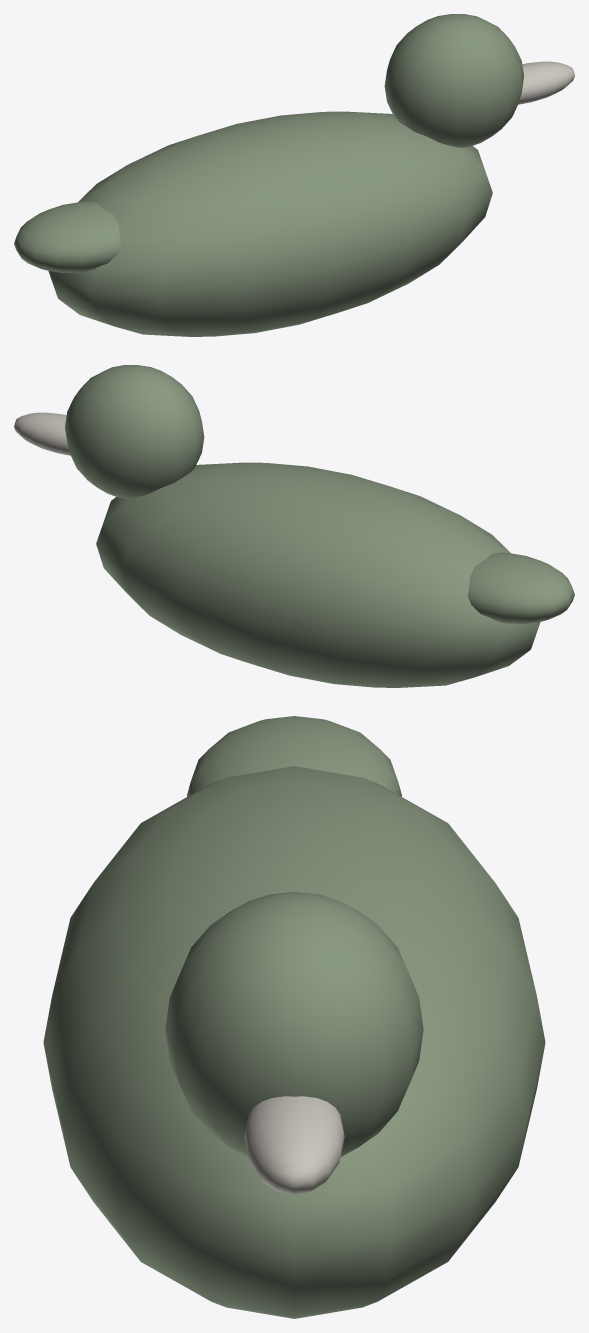
The model's file is duck.glb.
The picture shows the model from 3 angles, top to bottom: view 1: azimuth 30°, elevation 25°; view 2: azimuth 150°, elevation 25°; view 3: azimuth 270°, elevation 25°; orthographic projection. The views are drawn at different scales.
Visible parts, largest first — view 1: body, head, tail, bill; view 2: body, head, tail, bill; view 3: body, head, tail, bill.
Part boxes in pixels (x1,y1,x2,y2): body: (48, 111, 492, 336); head: (384, 14, 523, 147); tail: (14, 201, 121, 272); bill: (518, 61, 574, 104); body: (96, 462, 540, 687); head: (65, 365, 204, 498); tail: (467, 552, 574, 623); bill: (14, 412, 70, 455); body: (43, 766, 545, 1318); head: (165, 892, 423, 1157); tail: (187, 716, 401, 796); bill: (244, 1096, 344, 1194).
Bounding box in the file's own units: 0.357 × 0.153 × 0.14.
